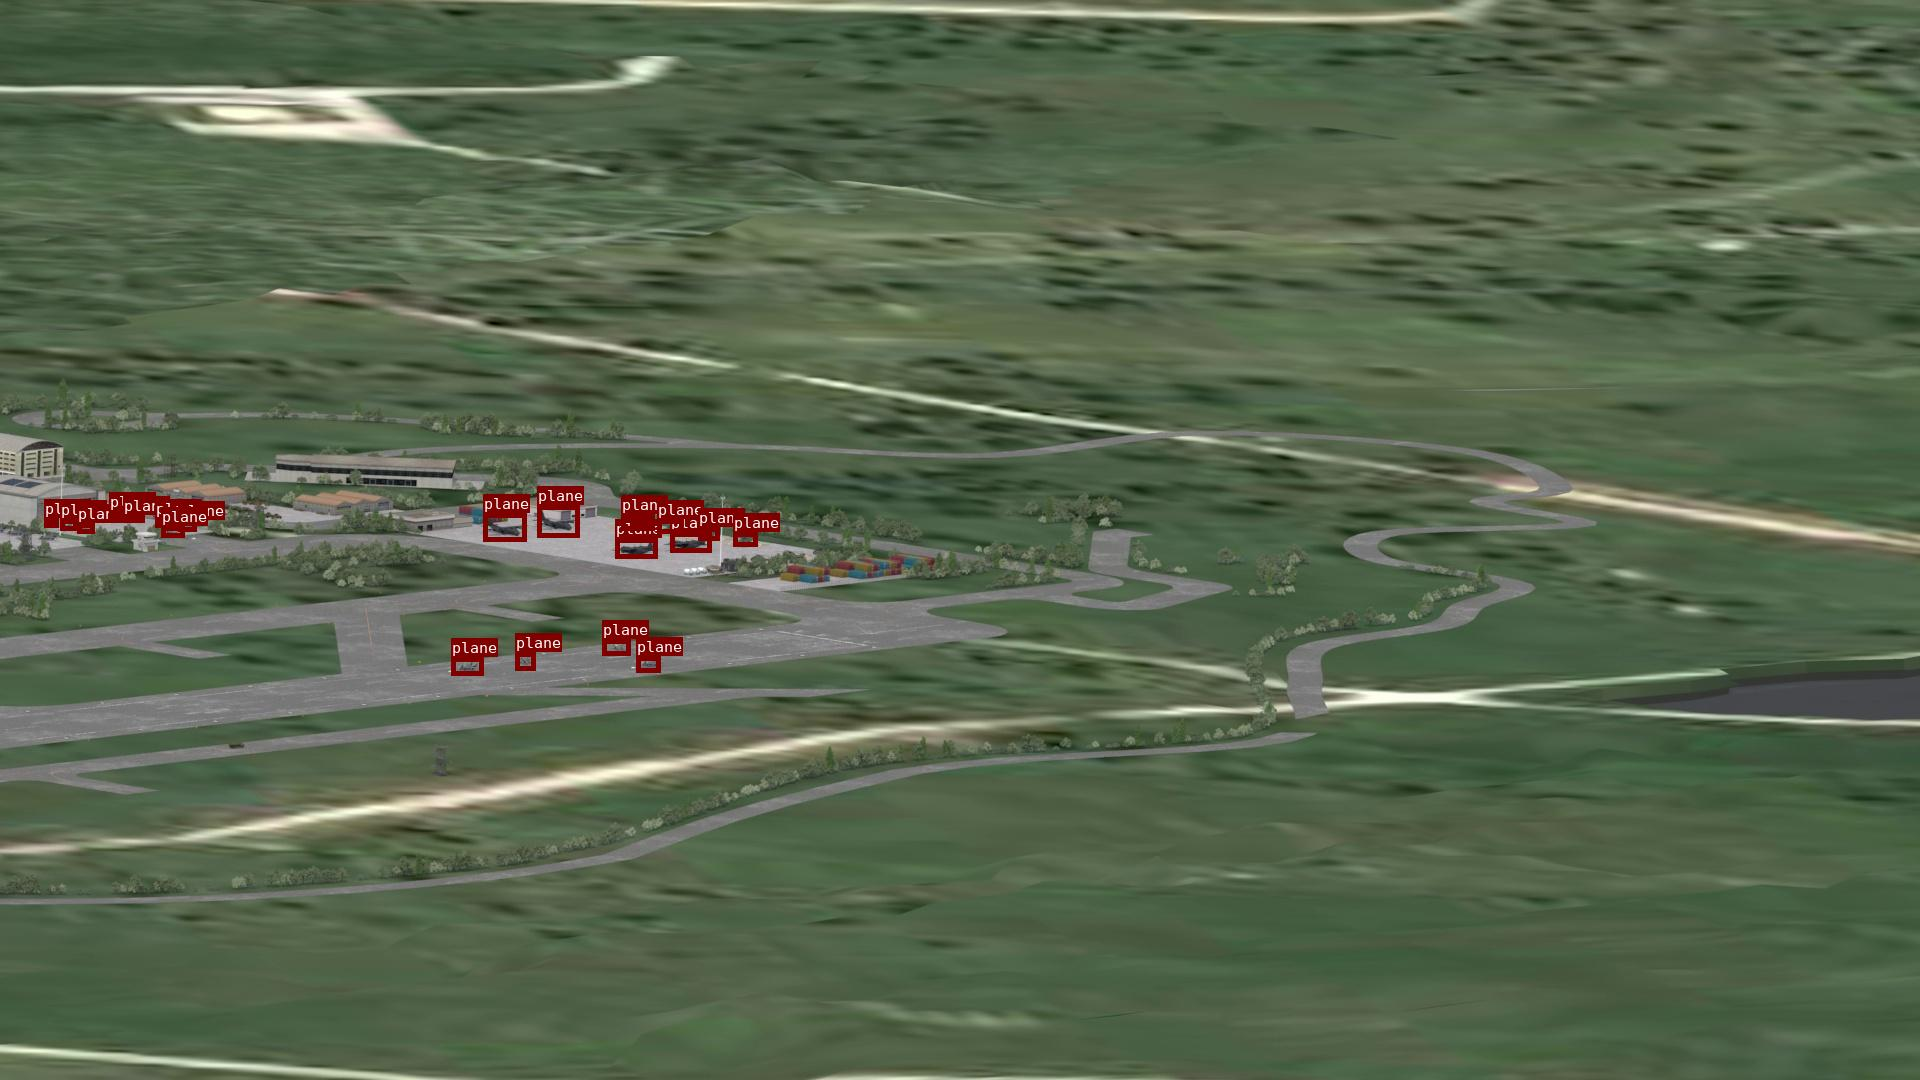plane: (537, 505, 579, 537), (483, 513, 526, 541), (670, 531, 711, 553), (615, 538, 657, 558), (451, 657, 483, 675), (621, 514, 654, 530), (603, 640, 630, 655), (636, 655, 659, 673), (516, 651, 535, 670), (657, 520, 683, 533), (733, 531, 757, 546), (698, 527, 719, 541), (161, 526, 185, 537), (178, 520, 196, 531), (156, 518, 175, 527), (61, 520, 76, 530), (76, 524, 94, 533), (123, 516, 144, 522), (44, 518, 58, 527), (109, 512, 125, 520)
